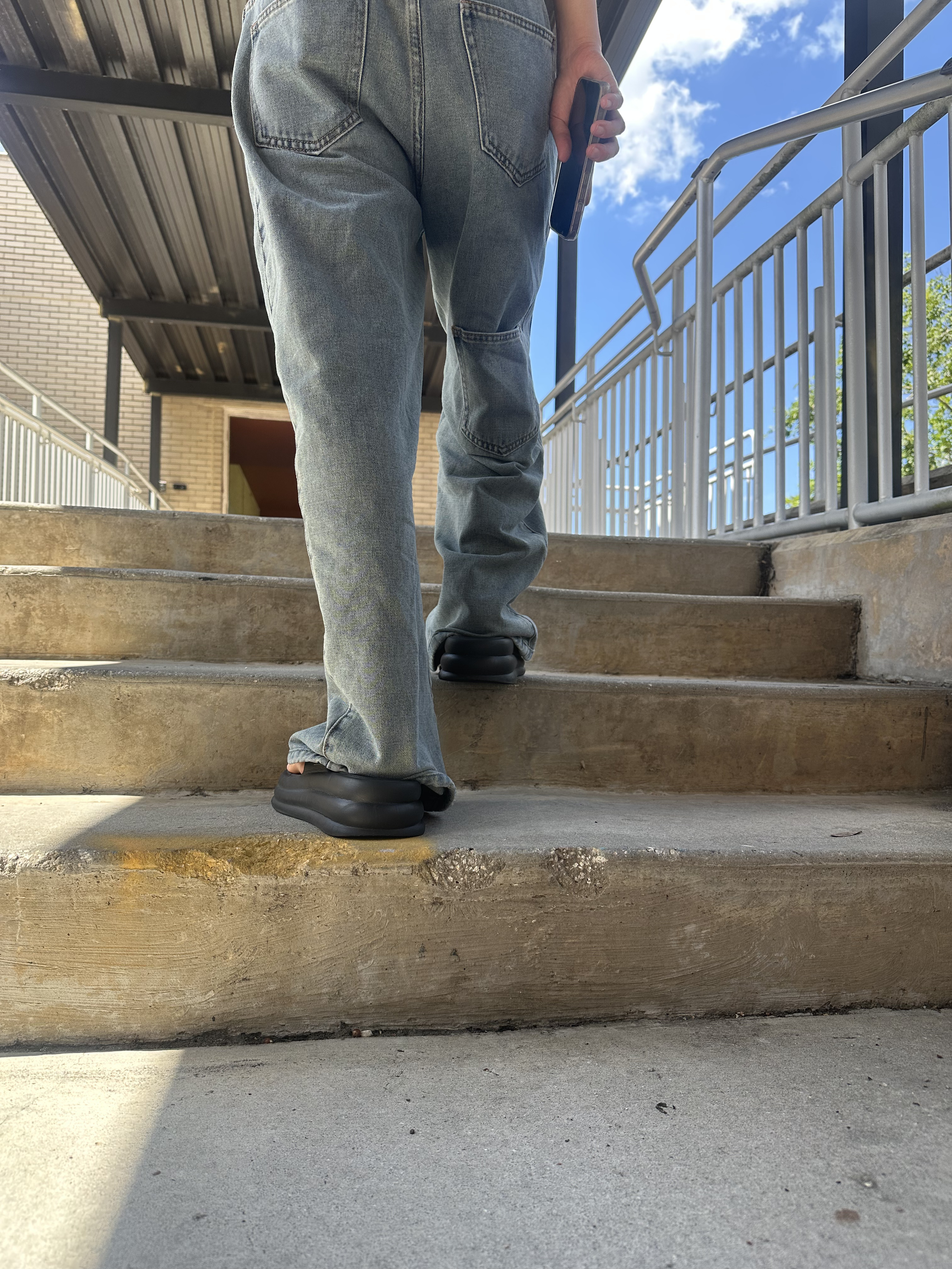stairs: (3, 500, 952, 1054)
